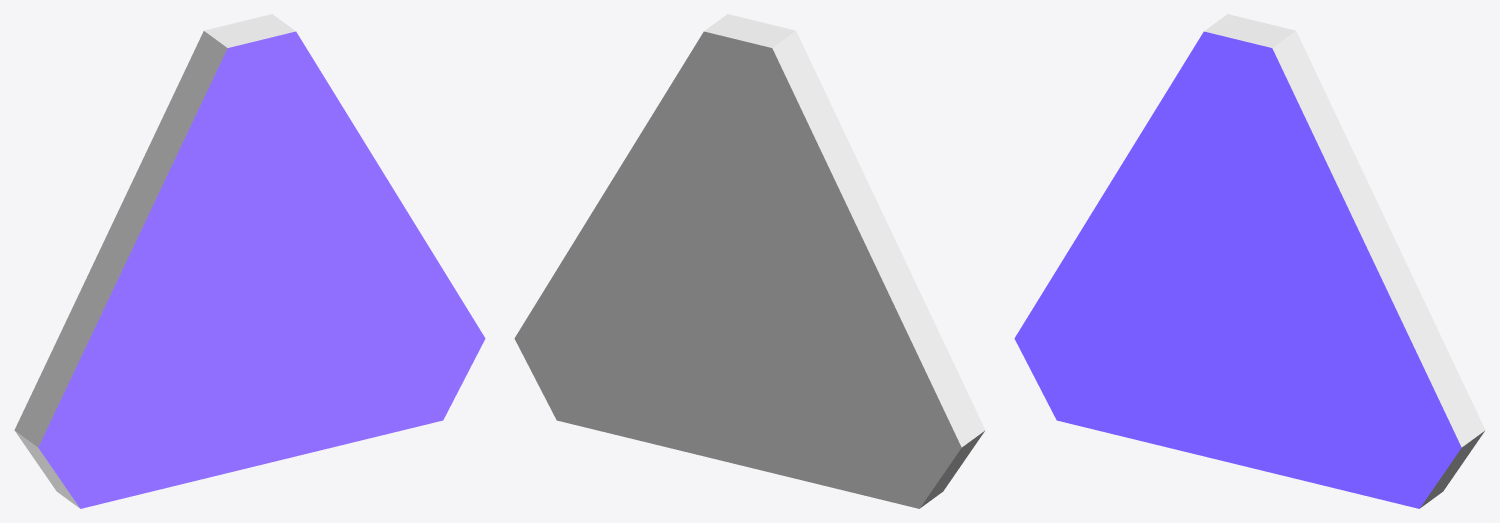
File: furniture_led-panel-triangle.fbx
3 views of the same model, side by side, from view 1: azimuth 30°, elevation 25°; view 2: azimuth 150°, elevation 25°; view 3: azimuth 330°, elevation 25° (orthographic).
Parts seen in each view (by area): view 1: furniture_led_panel_triangle; view 2: furniture_led_panel_triangle; view 3: furniture_led_panel_triangle.
Part boxes in pixels (left/top/right/bottom): furniture_led_panel_triangle: left=14, top=14, right=485, bottom=508; furniture_led_panel_triangle: left=514, top=14, right=985, bottom=508; furniture_led_panel_triangle: left=1014, top=14, right=1485, bottom=508.
Size of the model in its own units: 200 by 182 by 18.45.
